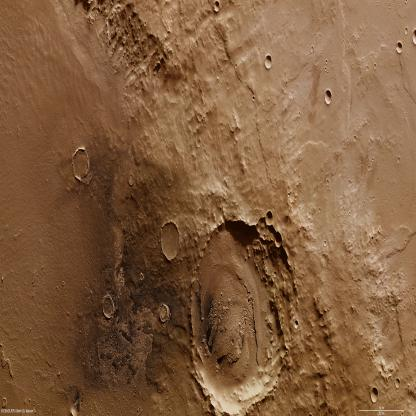craters: (181, 207, 325, 416), (151, 204, 182, 274), (62, 147, 99, 190), (320, 71, 344, 120), (98, 276, 120, 329), (61, 386, 96, 416), (388, 27, 409, 73), (150, 292, 177, 327), (399, 8, 416, 61), (263, 49, 280, 76), (367, 378, 382, 406), (209, 0, 228, 22), (394, 373, 406, 398)
